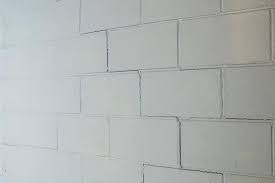stairstep_crack: (76, 0, 225, 182)
